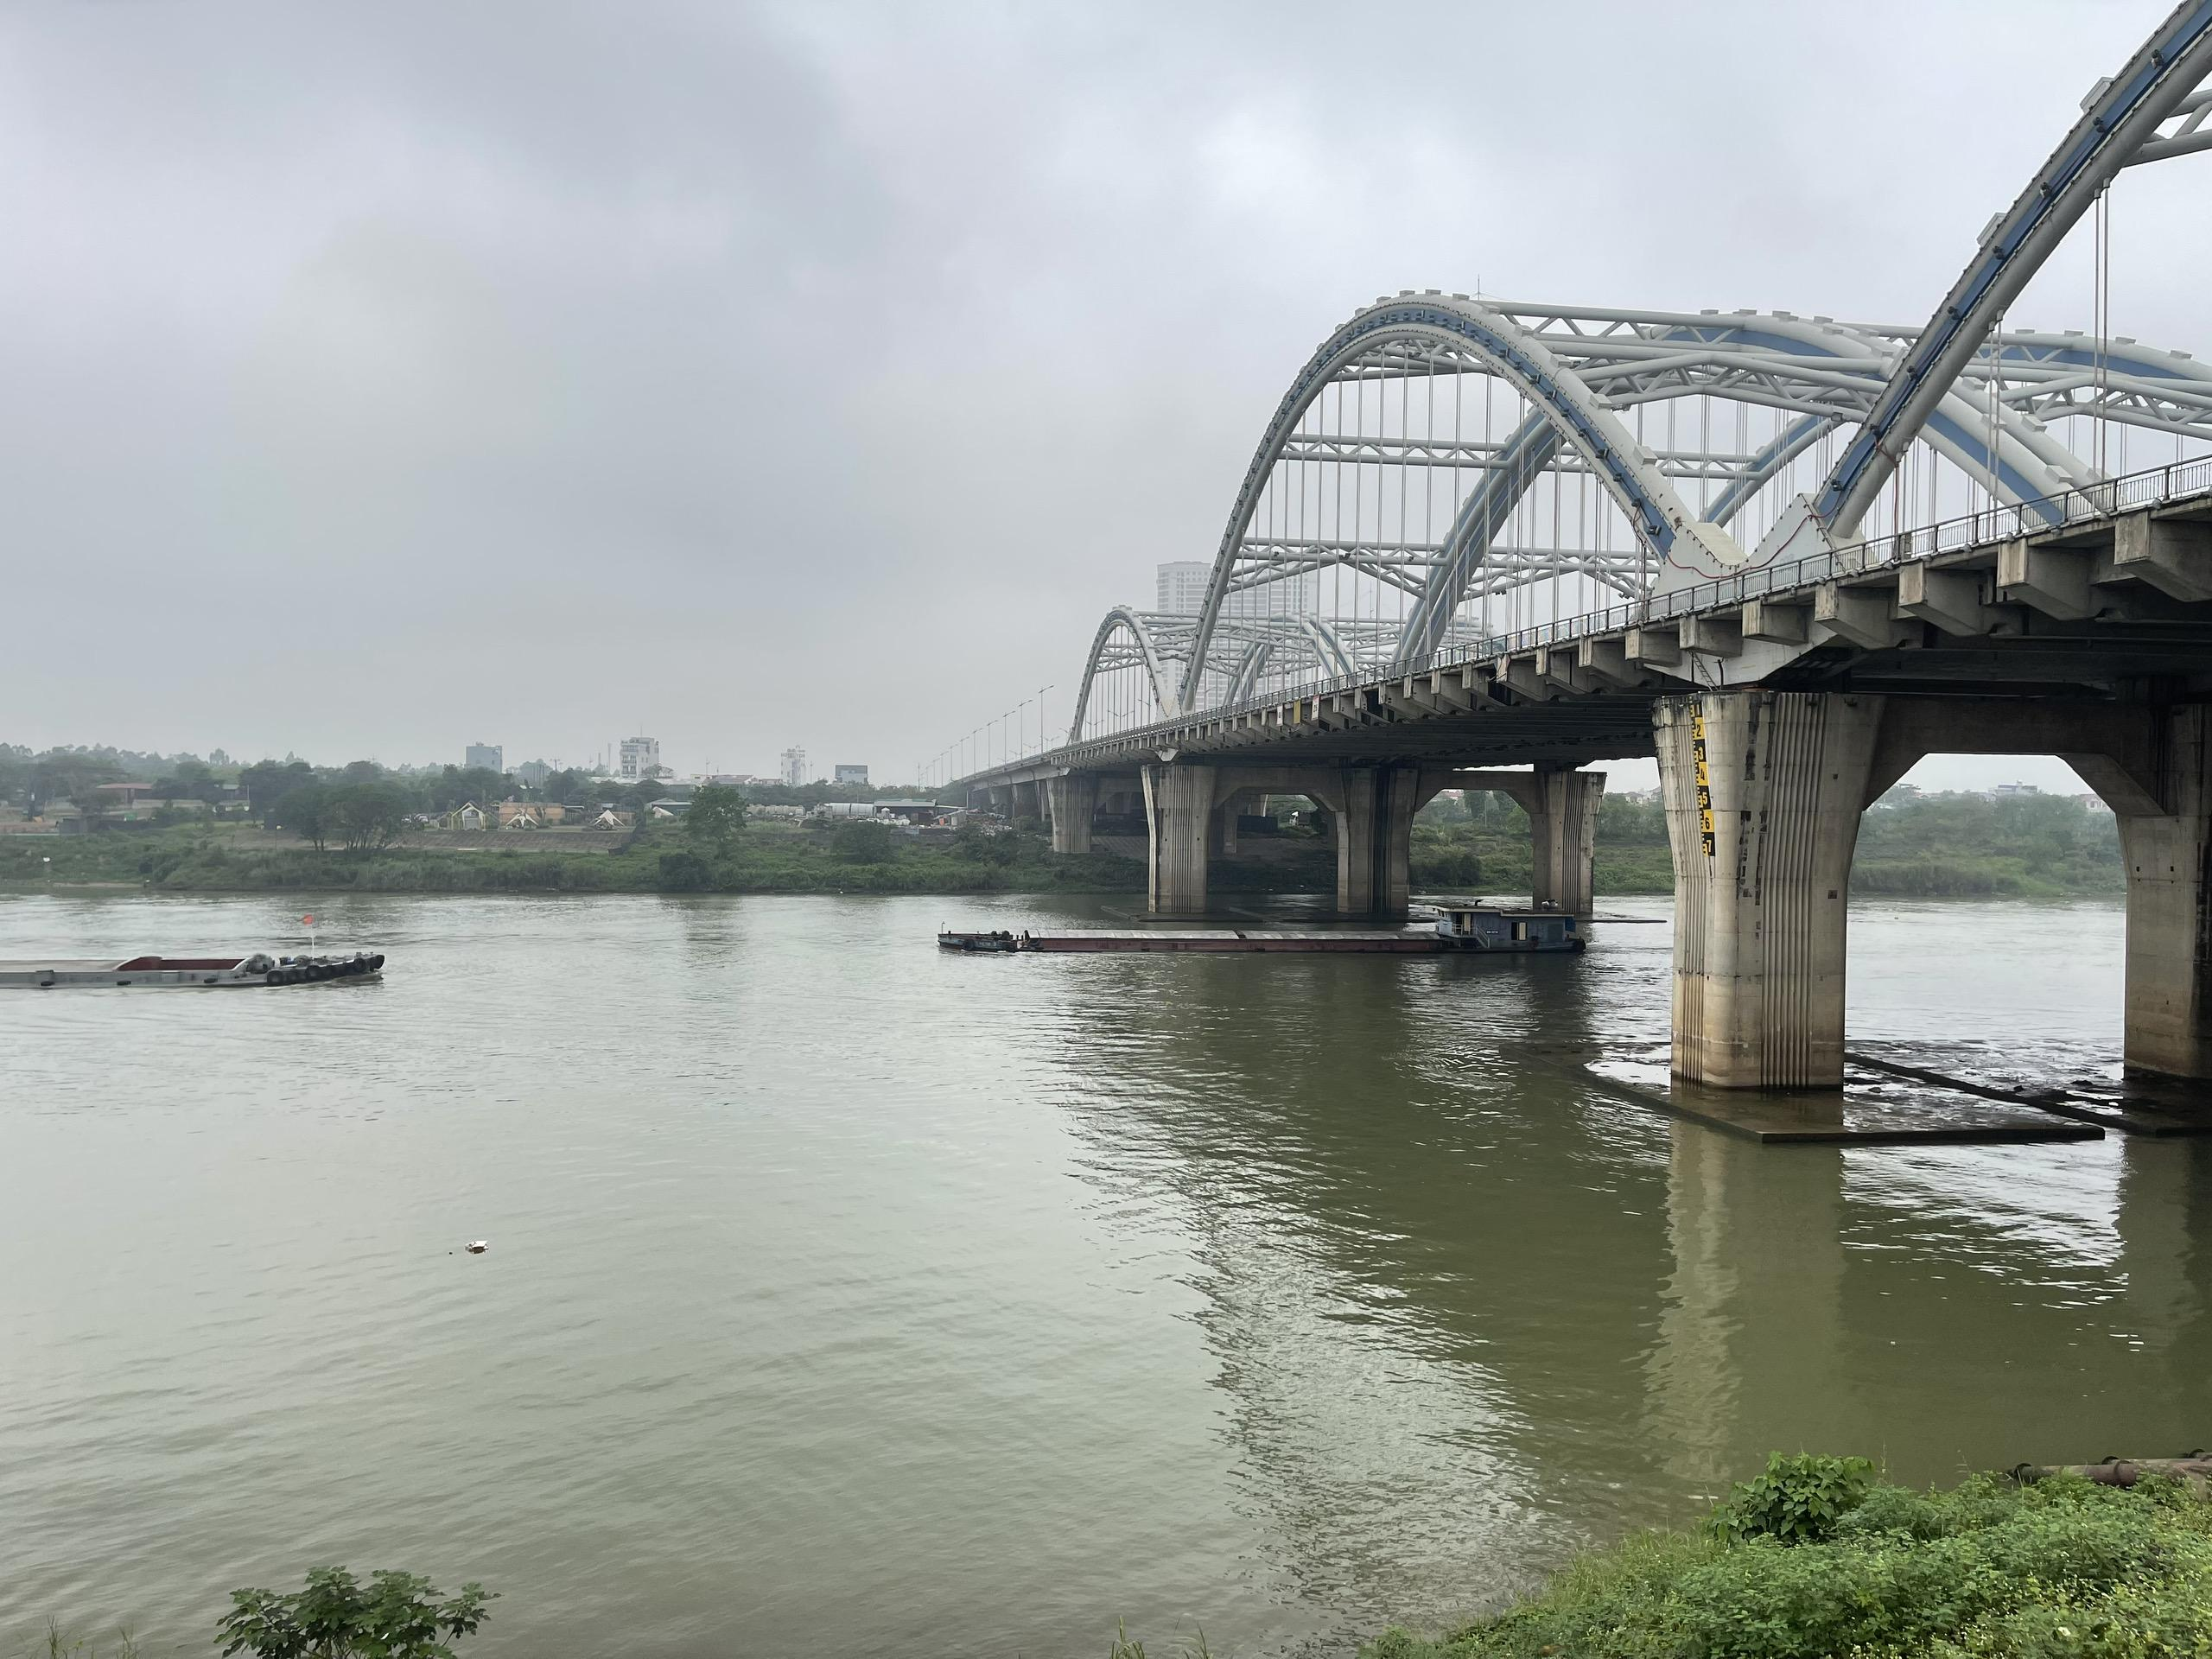Ship: (935, 903, 1606, 967), (0, 918, 394, 1006)
